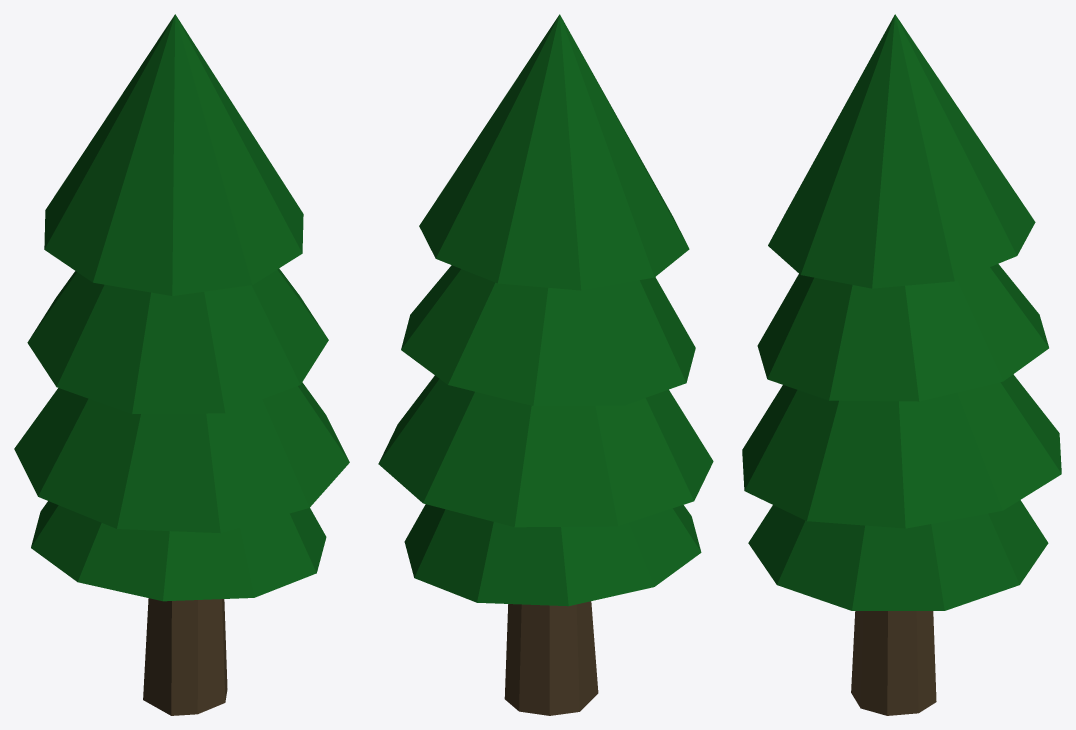
Rendered from treelight.fbx.
The picture shows the model from 3 angles, left to right: view 1: azimuth 30°, elevation 25°; view 2: azimuth 150°, elevation 25°; view 3: azimuth 270°, elevation 25°; orthographic projection.
Parts seen in each view (by area): view 1: treelight; view 2: treelight; view 3: treelight.
Part boxes in pixels (box(x1,y1,x2,y2)): treelight: box(14, 14, 349, 715); treelight: box(378, 14, 713, 715); treelight: box(742, 14, 1061, 715).
Size of the model in its own units: 222 by 499 by 213.
